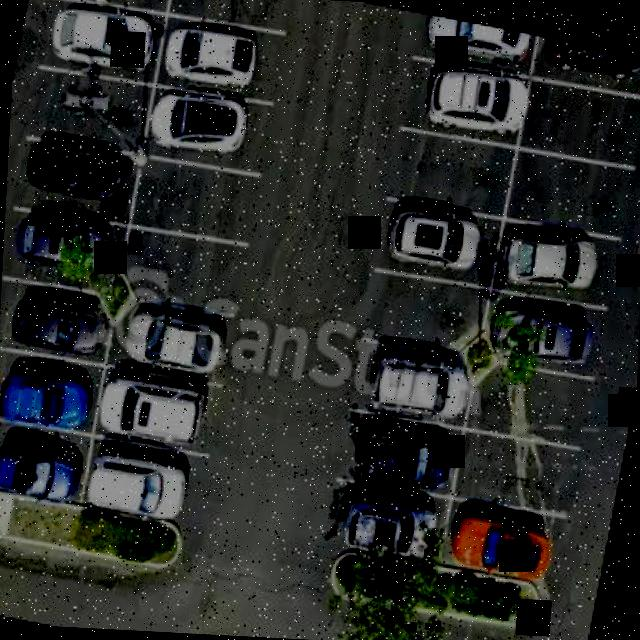car: (353, 307, 487, 433), (415, 44, 550, 162), (444, 481, 570, 592), (493, 193, 616, 300), (376, 185, 498, 292), (321, 472, 456, 568), (482, 288, 616, 382), (92, 360, 215, 460), (138, 70, 266, 164), (116, 286, 237, 382), (338, 422, 458, 516), (158, 14, 270, 108), (78, 450, 198, 535), (0, 285, 117, 370), (29, 132, 142, 220), (38, 2, 161, 82), (4, 208, 119, 282), (418, 14, 538, 83), (0, 425, 89, 518), (0, 363, 97, 444), (528, 33, 640, 93), (65, 0, 172, 5)
free: (120, 228, 252, 322), (365, 260, 486, 356), (25, 57, 152, 147), (398, 129, 512, 228), (512, 150, 632, 238), (136, 163, 259, 247), (468, 369, 595, 450), (455, 438, 580, 519), (525, 82, 640, 161), (174, 0, 297, 30)
